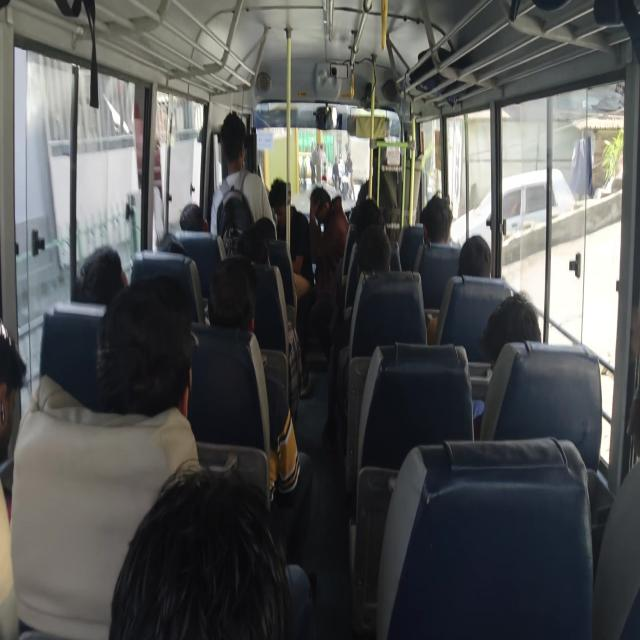person: (137, 483, 238, 630), (93, 317, 193, 437), (0, 358, 50, 458), (491, 298, 548, 366), (74, 238, 122, 305), (202, 281, 249, 340), (223, 237, 275, 283), (152, 222, 194, 272), (219, 120, 262, 162), (466, 219, 494, 275), (178, 201, 216, 239), (426, 184, 458, 229), (249, 202, 279, 240), (368, 227, 396, 266), (266, 176, 296, 212), (350, 202, 383, 231)
